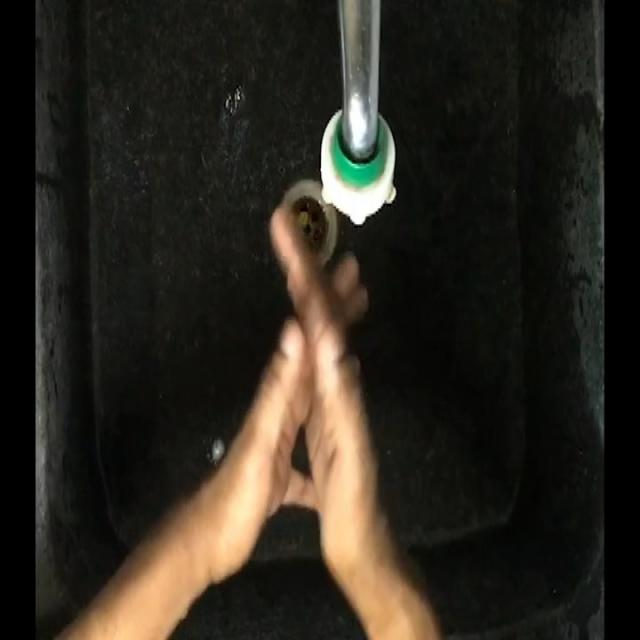step_3: (227, 197, 396, 565)
